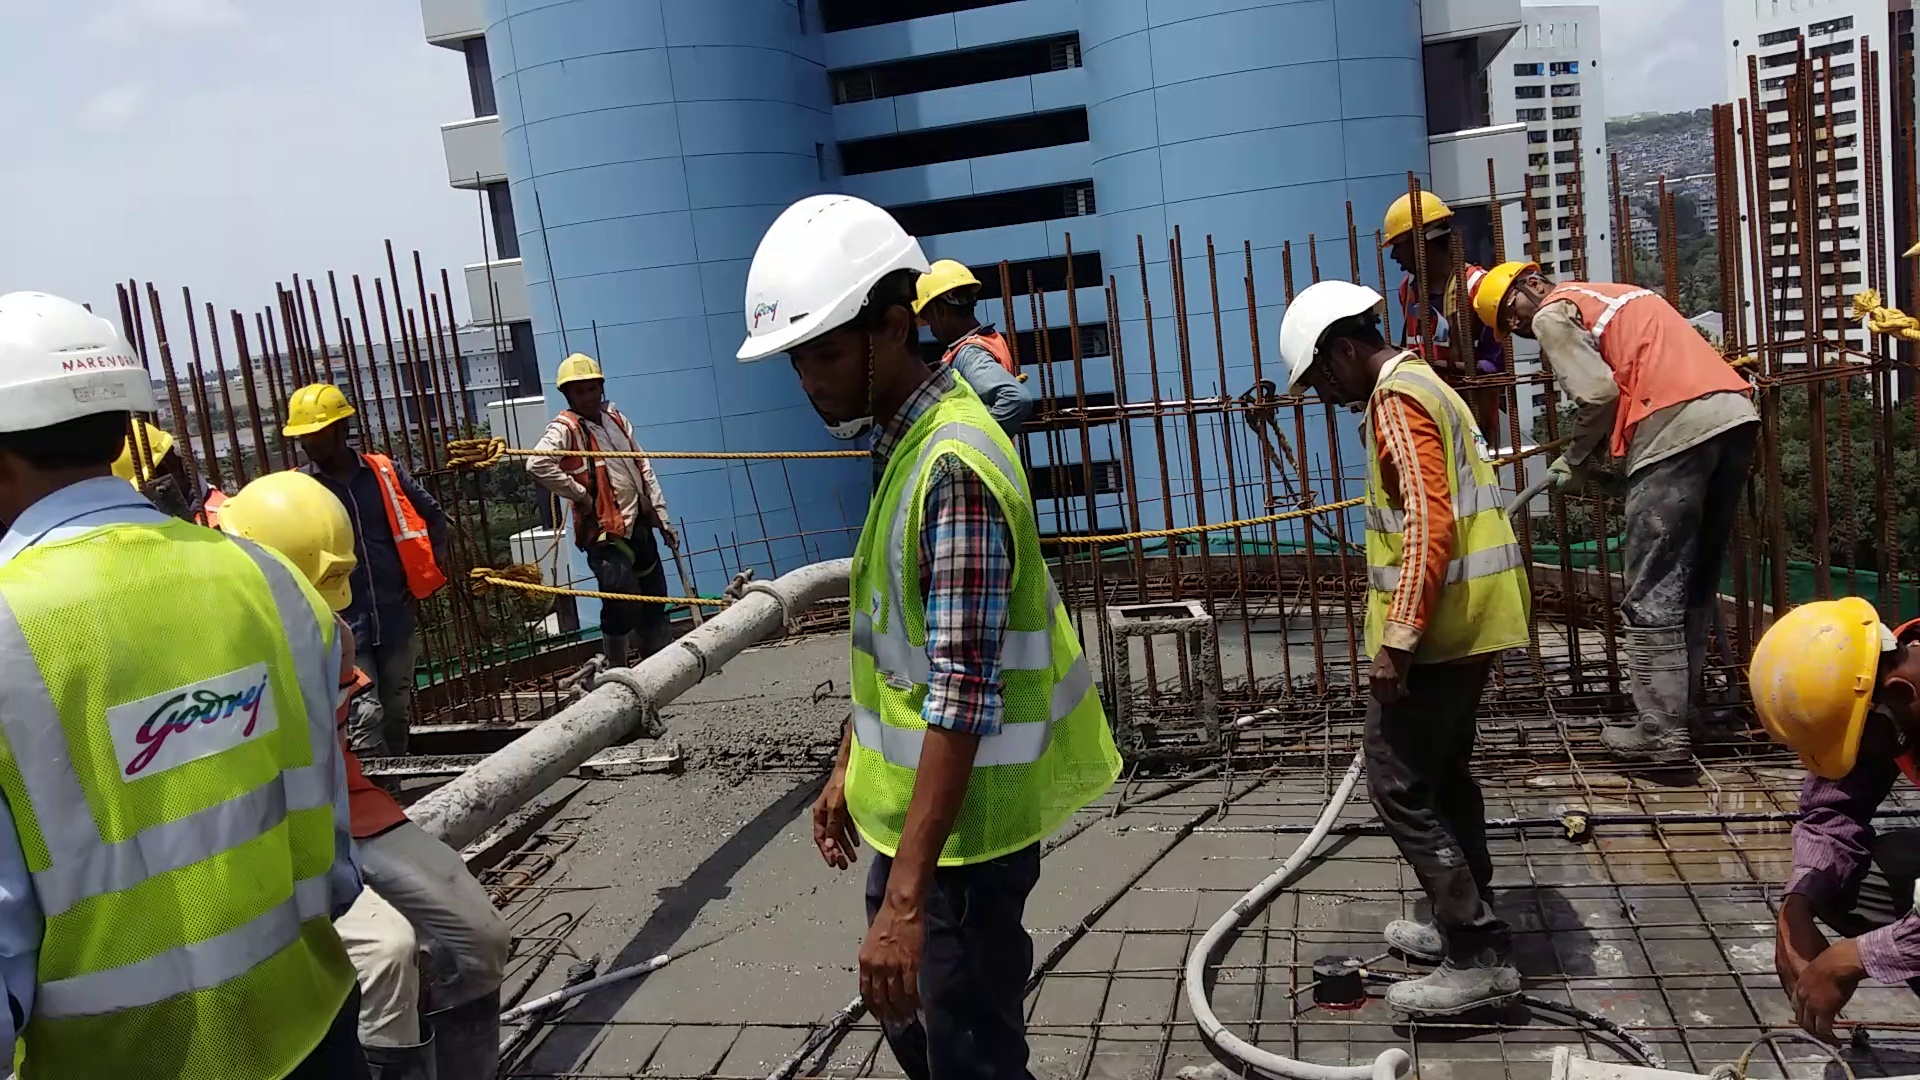SAFE: (1, 280, 345, 1072), (737, 193, 1033, 870), (1279, 280, 1507, 651), (1474, 262, 1764, 448), (302, 377, 442, 621), (546, 353, 651, 549)
